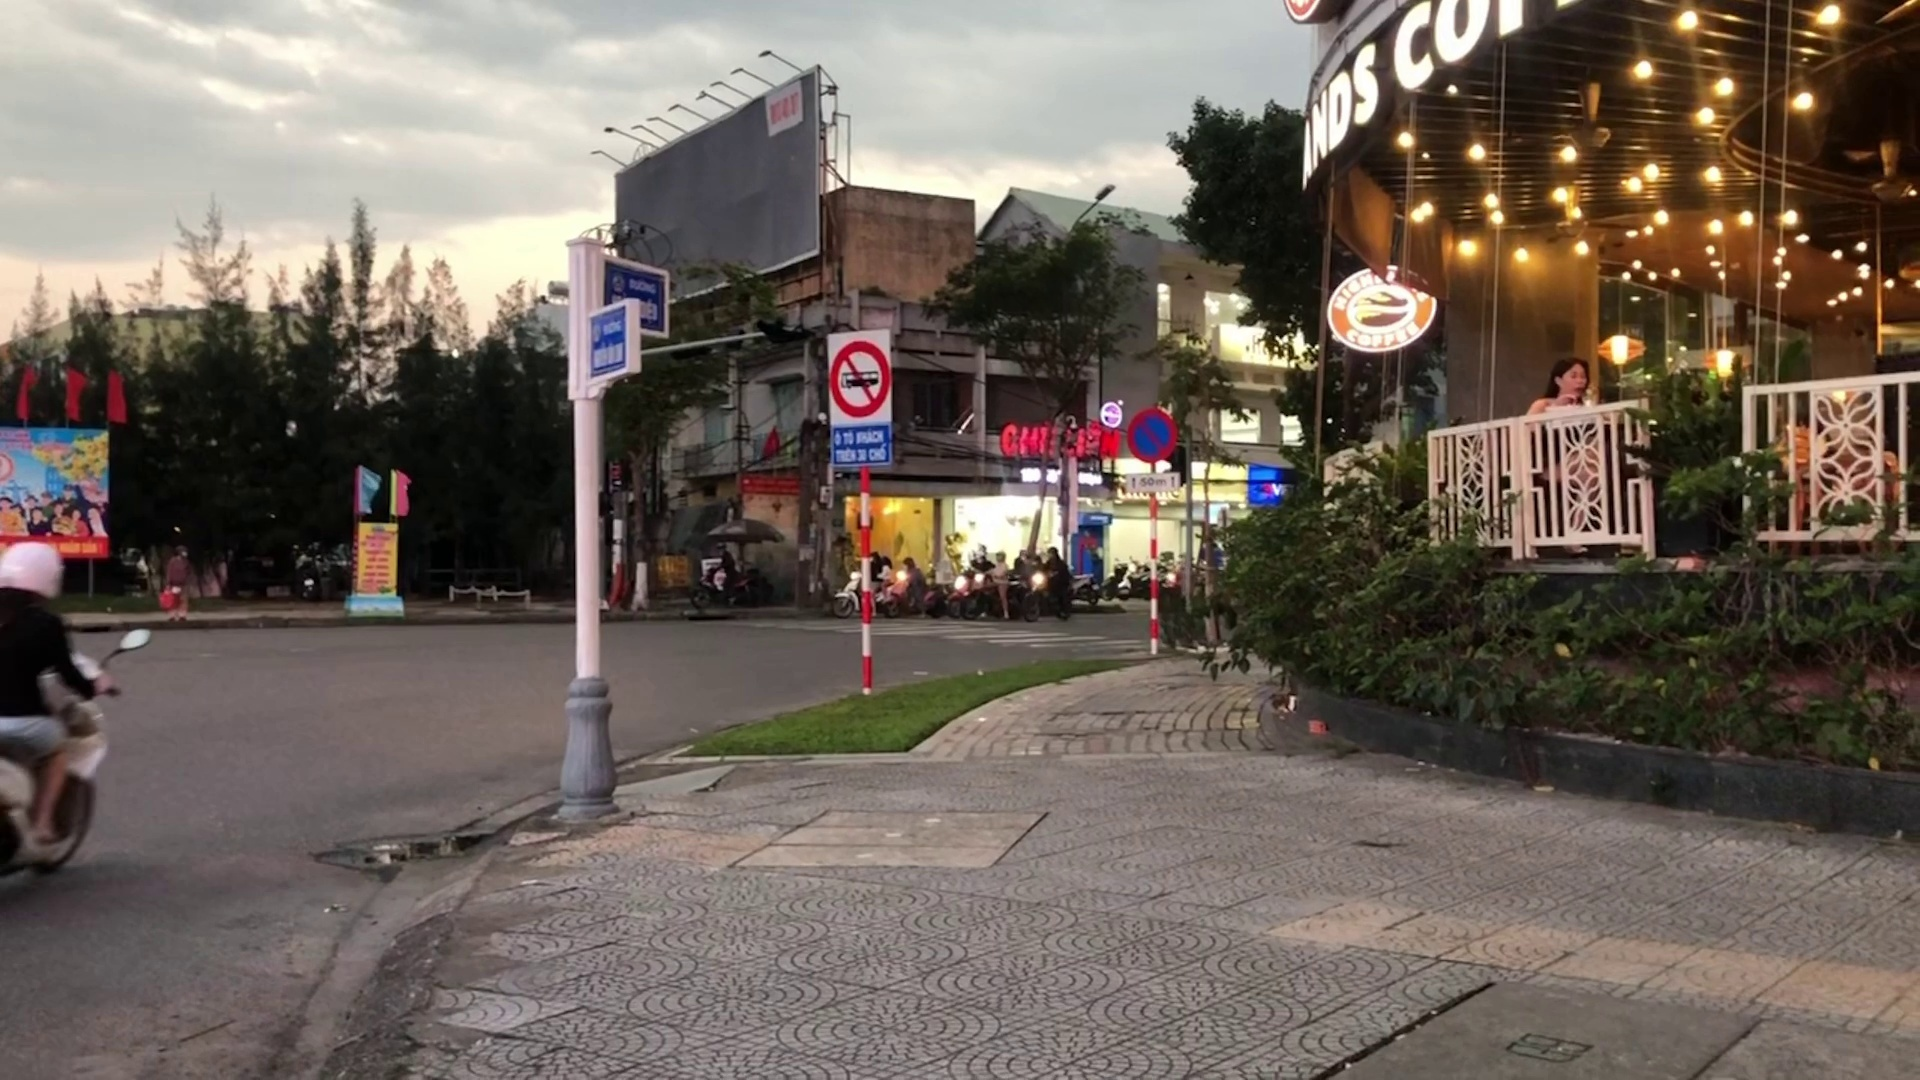Bien khac: (828, 334, 891, 465)
Cam do xe: (1125, 402, 1178, 463)
